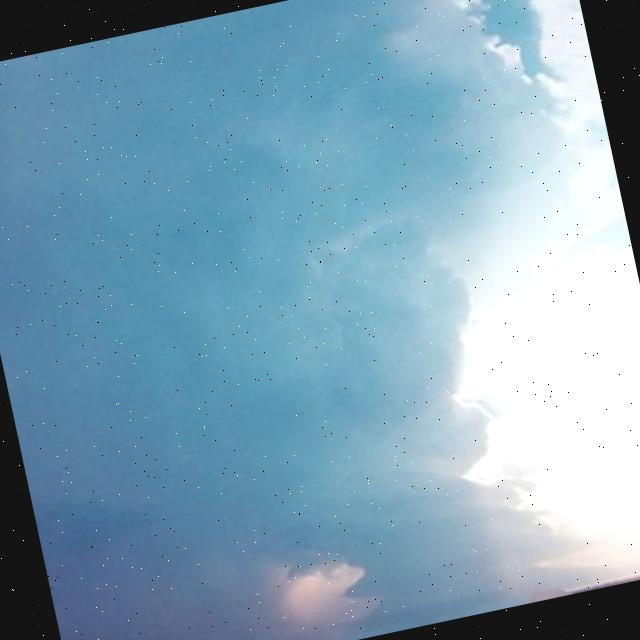Cb: (1, 1, 640, 559)
